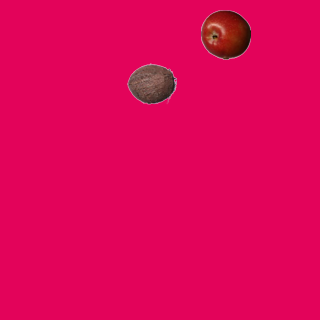Apple Braeburn: (200, 9, 250, 59)
Cocos: (126, 58, 176, 108)
